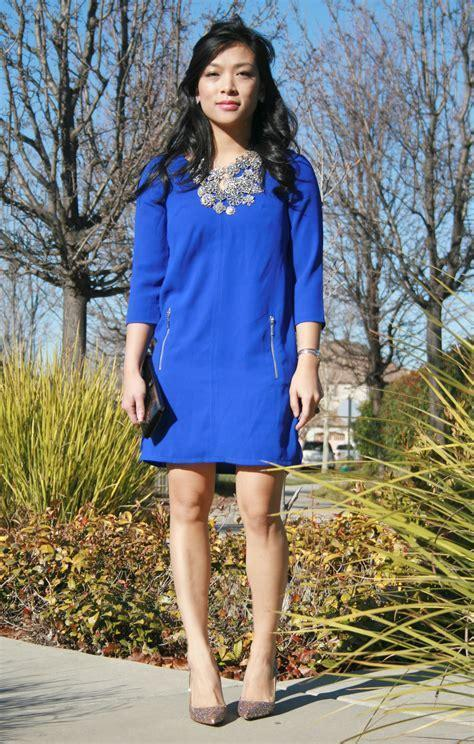dress: (126, 148, 325, 470)
